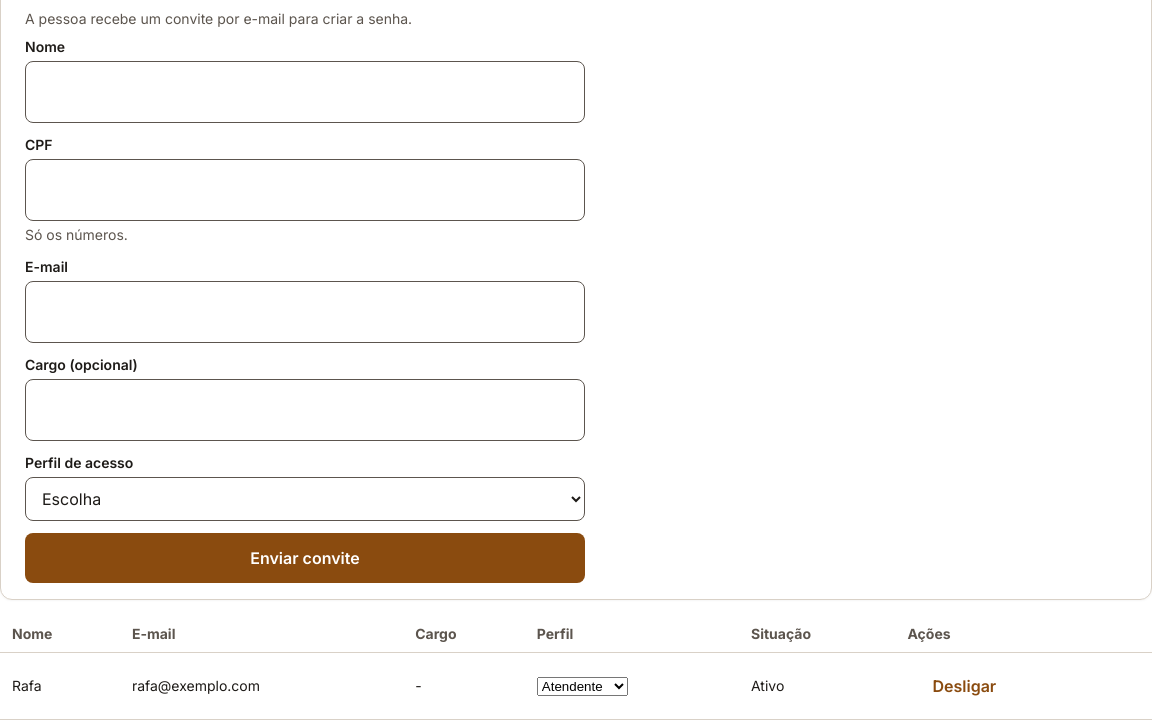
it: UC-19 · Funcionários na web › CT-19-02: deve trocar o perfil e desligar com confirmação
The width and height of the screenshot is (1152, 720).
(page scrolled)
Select "Profissional" in the dropdown named "Perfil de Rafa" at point(582, 686), box x1=537 y1=677 x2=628 y2=696
(page scrolled)
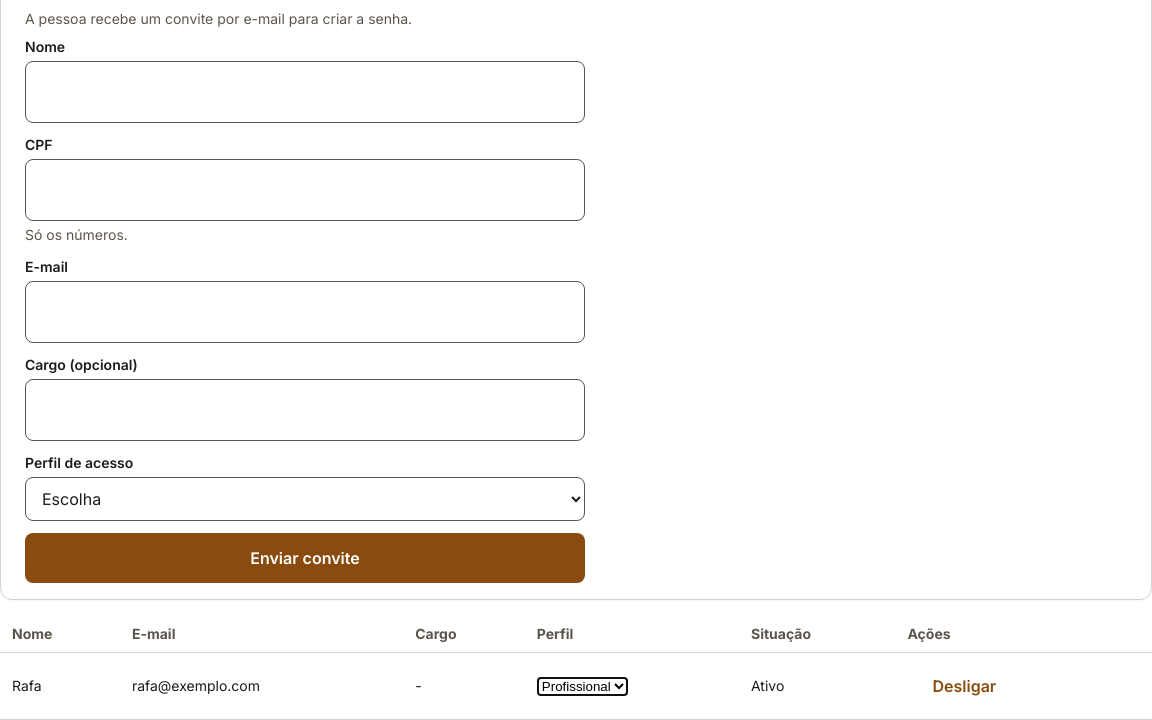
Click the button with aria-label "Desligar Rafa" at point(964, 686), box x1=908 y1=661 x2=1021 y2=711
(page scrolled)
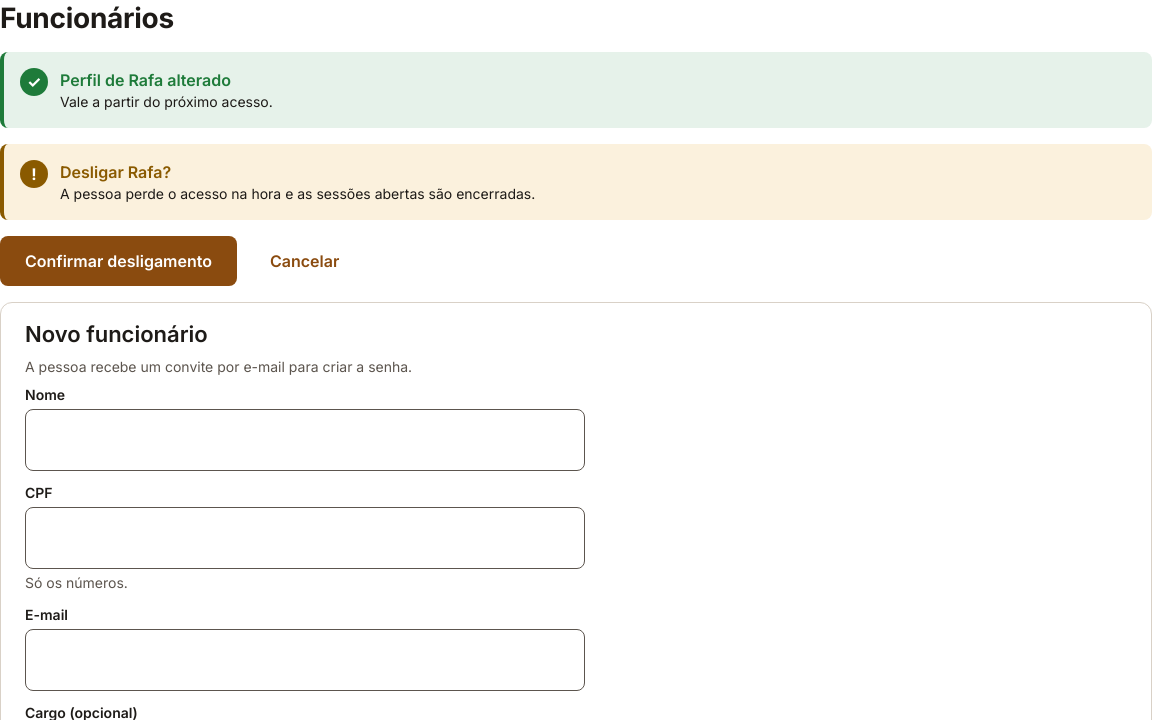
Result: the text "Desligar Rafa?" is shown at x1=59 y1=161 x2=171 y2=182
Click the button "Confirmar desligamento" at point(118, 261), box x1=0 y1=236 x2=237 y2=286
(page scrolled)
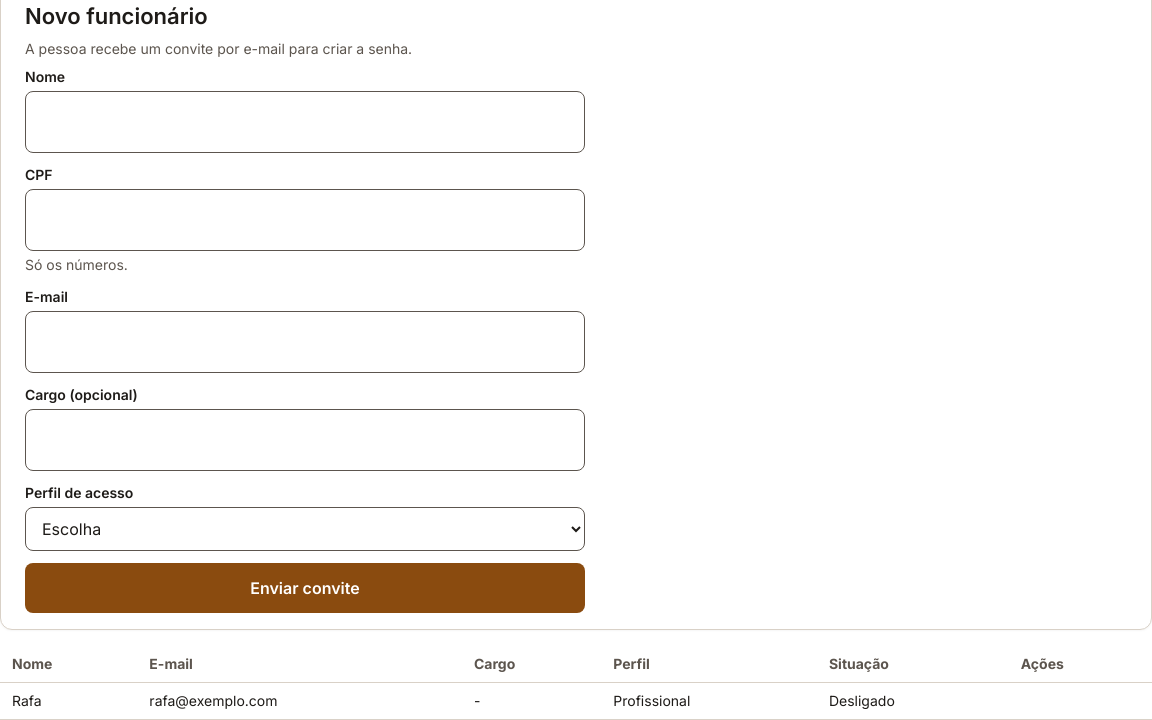
Result: the text "Desligado" is shown at x1=817 y1=682 x2=1009 y2=719
